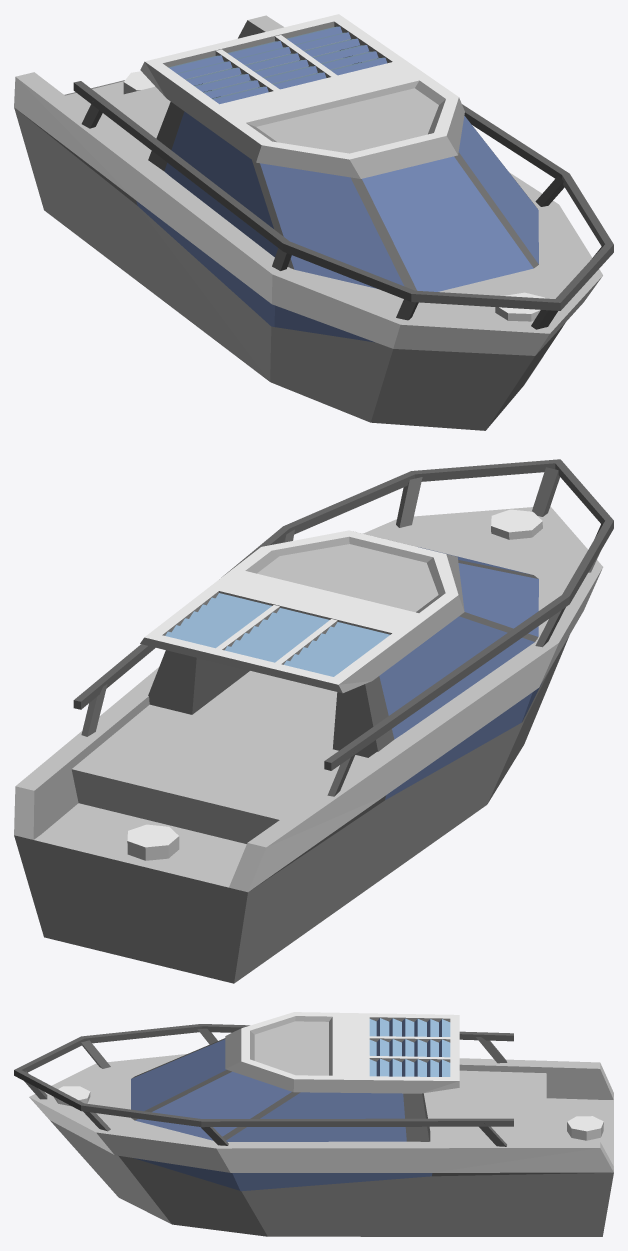
File: transport_water_003.glb
3 renders of one model, top to bottom at view 1: azimuth 30°, elevation 25°; view 2: azimuth 150°, elevation 25°; view 3: azimuth 270°, elevation 25°, orthographic. The views are drawn at different scales.
Visible parts, largest first — view 1: transport_water_003; view 2: transport_water_003; view 3: transport_water_003.
Boxes of the visible parts, x1,y1,x2,y2 form: transport_water_003: [14, 14, 613, 430]; transport_water_003: [14, 459, 613, 983]; transport_water_003: [14, 1012, 613, 1236].
Size of the model in its own units: 4 by 3.05 by 10.38.
1 material, 1 textured.
